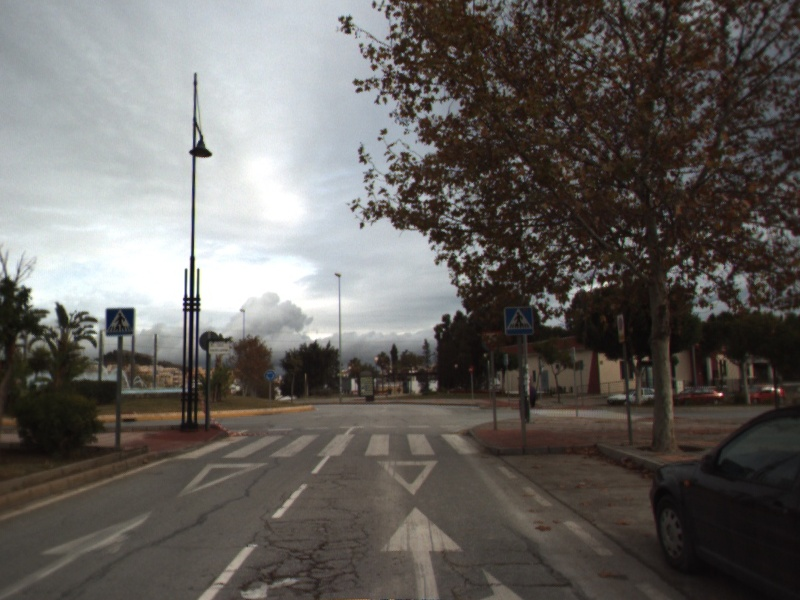STRAIGHT: (1, 507, 155, 600), (377, 503, 467, 600)
